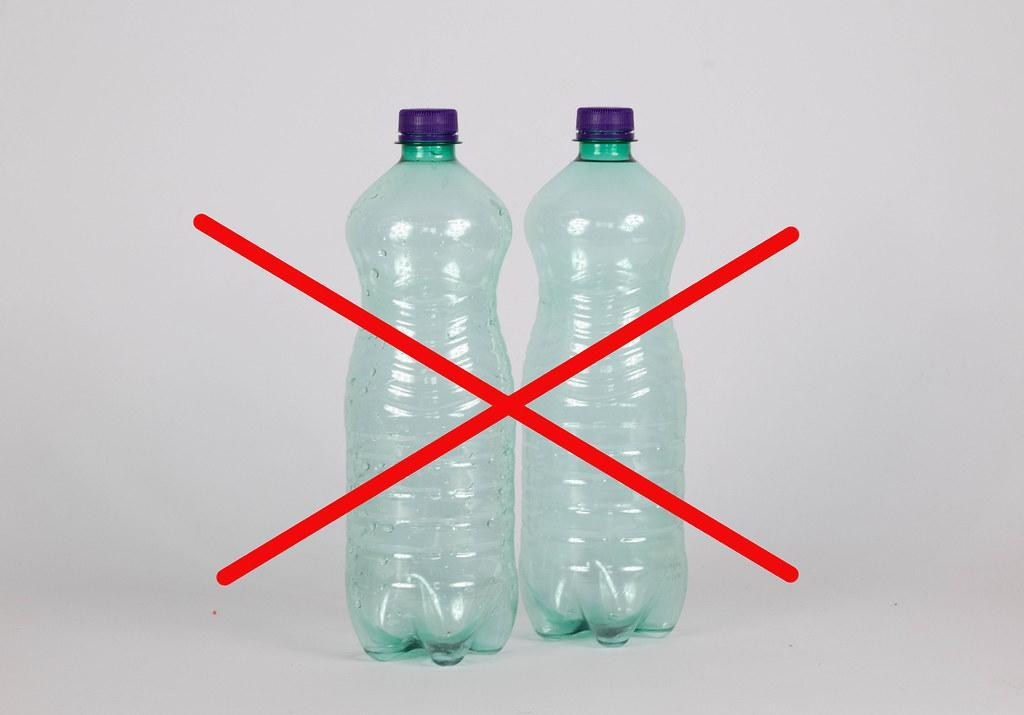bottle: (330, 85, 520, 669), (524, 80, 688, 662)
